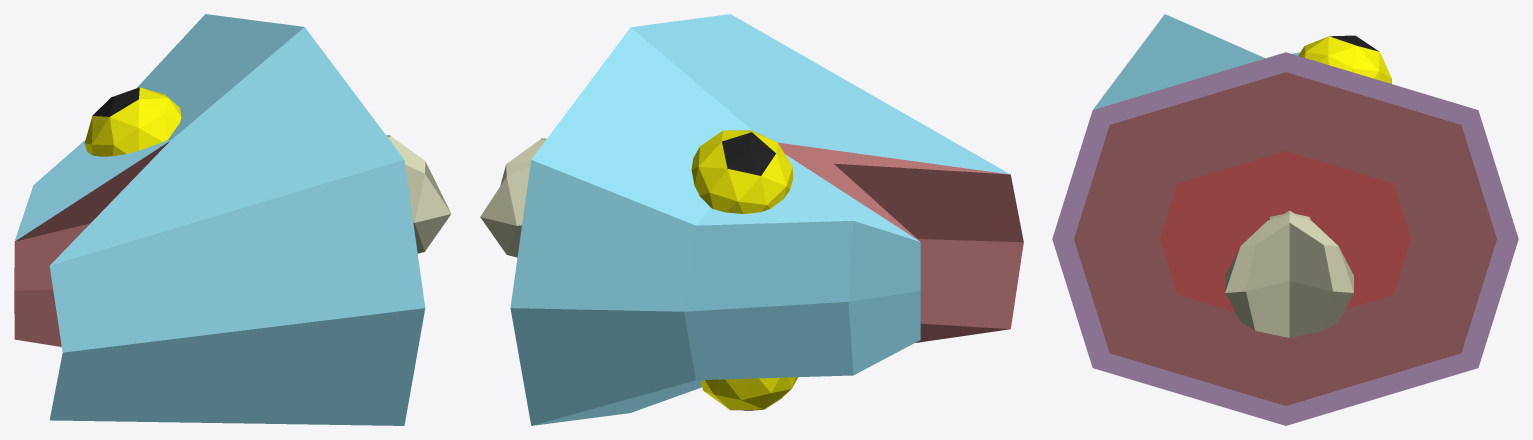
The model's file is Fish head.fbx.
3 views of the same model, side by side, from view 1: azimuth 30°, elevation 25°; view 2: azimuth 150°, elevation 25°; view 3: azimuth 270°, elevation 25° (orthographic). The views are drawn at different scales.
Parts seen in each view (by area): view 1: Fish head; view 2: Fish head; view 3: Fish head.
Boxes of the visible parts, box(x1,y1,x2,y2) form: Fish head: box(14, 14, 451, 425); Fish head: box(480, 14, 1023, 425); Fish head: box(1052, 14, 1518, 425).
Size of the model in its own units: 9.85 by 8.39 by 9.49.
